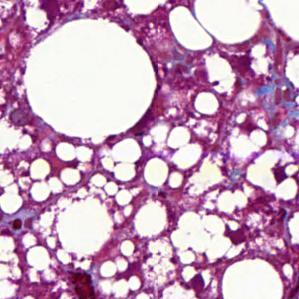steatosis: (17, 21, 153, 139)
